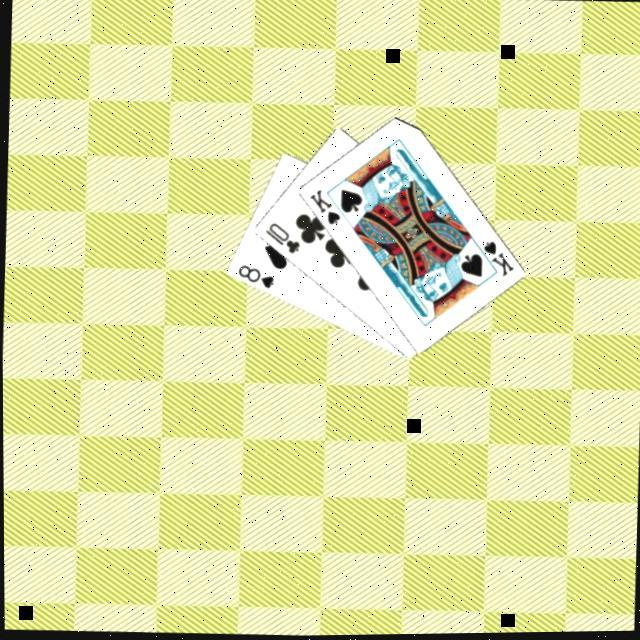10C: (260, 218, 302, 257)
8S: (234, 260, 277, 291)
KS: (472, 236, 517, 281), (305, 185, 344, 228)
